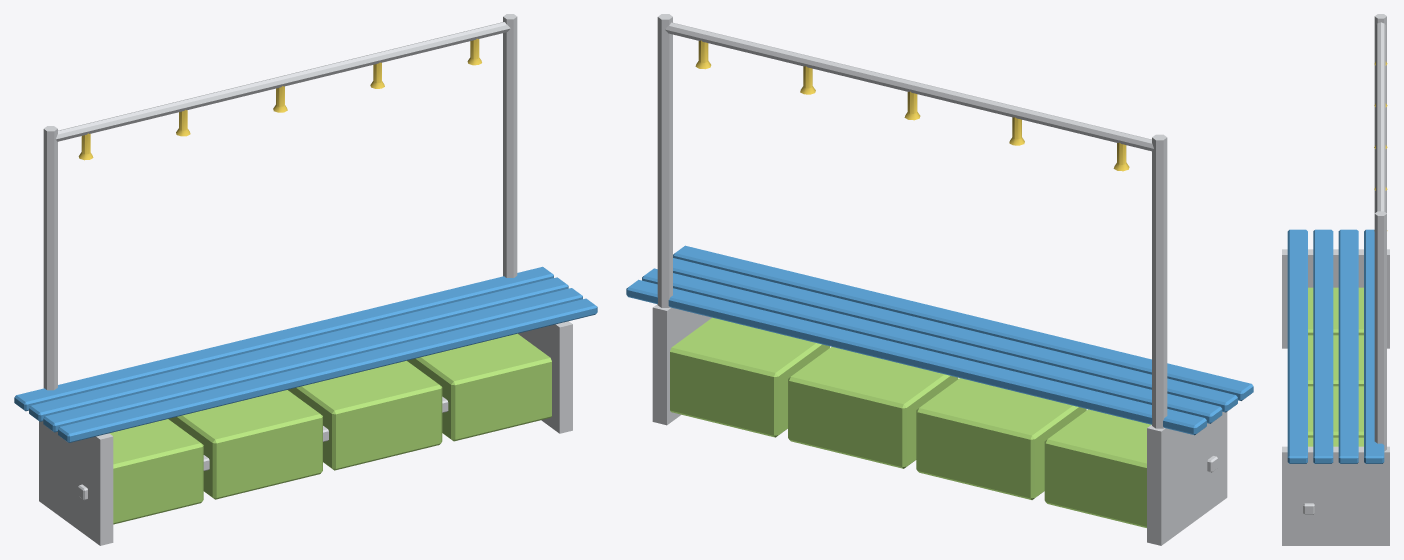
Rendered from trampoline-park-and-soft-play-bench-and-cubby-run-94fb1a09__34636.glb.
3 renders of one model, left to right at view 1: azimuth 30°, elevation 25°; view 2: azimuth 150°, elevation 25°; view 3: azimuth 270°, elevation 25°, orthographic. The views are drawn at different scales.
Parts seen in each view (by area): view 1: bench-and-cubby-run; view 2: bench-and-cubby-run; view 3: bench-and-cubby-run.
Boxes of the visible parts, x1=… form: bench-and-cubby-run: x1=14, y1=14, x2=597, y2=545; bench-and-cubby-run: x1=626, y1=14, x2=1253, y2=545; bench-and-cubby-run: x1=1282, y1=14, x2=1389, y2=545.
Size of the model in its own units: 2.4 by 1.62 by 0.4801.
